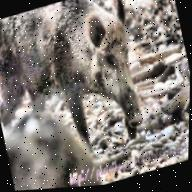boar: (0, 0, 182, 160)
